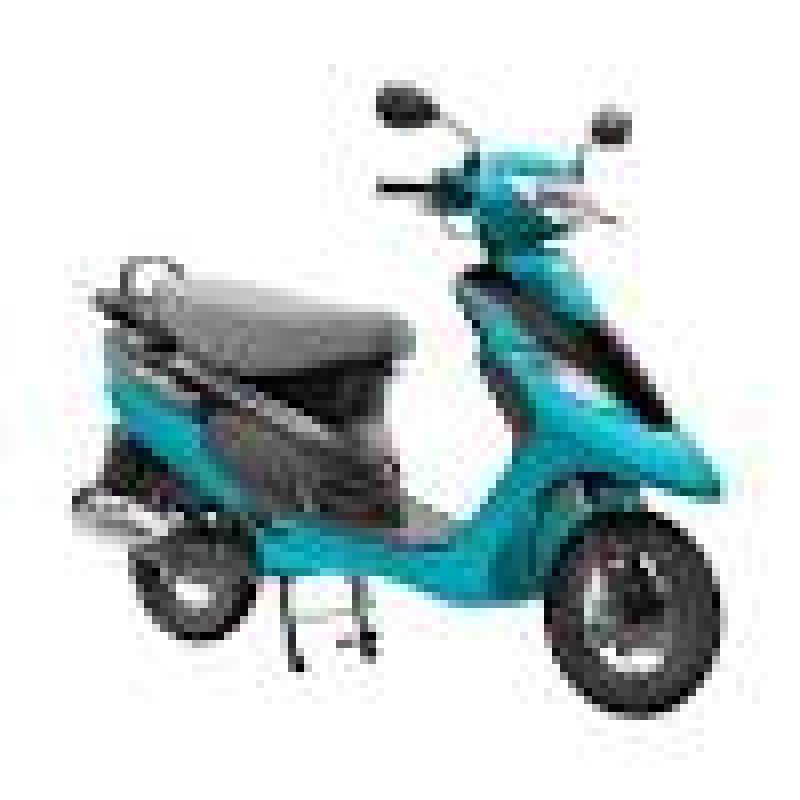bike: (73, 37, 725, 737)
